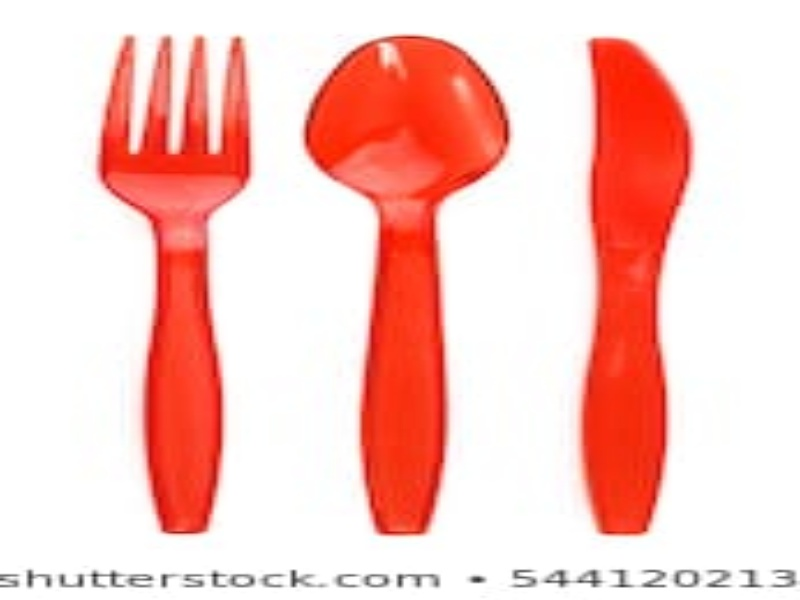plastic-silverware: (302, 34, 503, 538), (98, 32, 246, 536), (585, 33, 700, 534)
